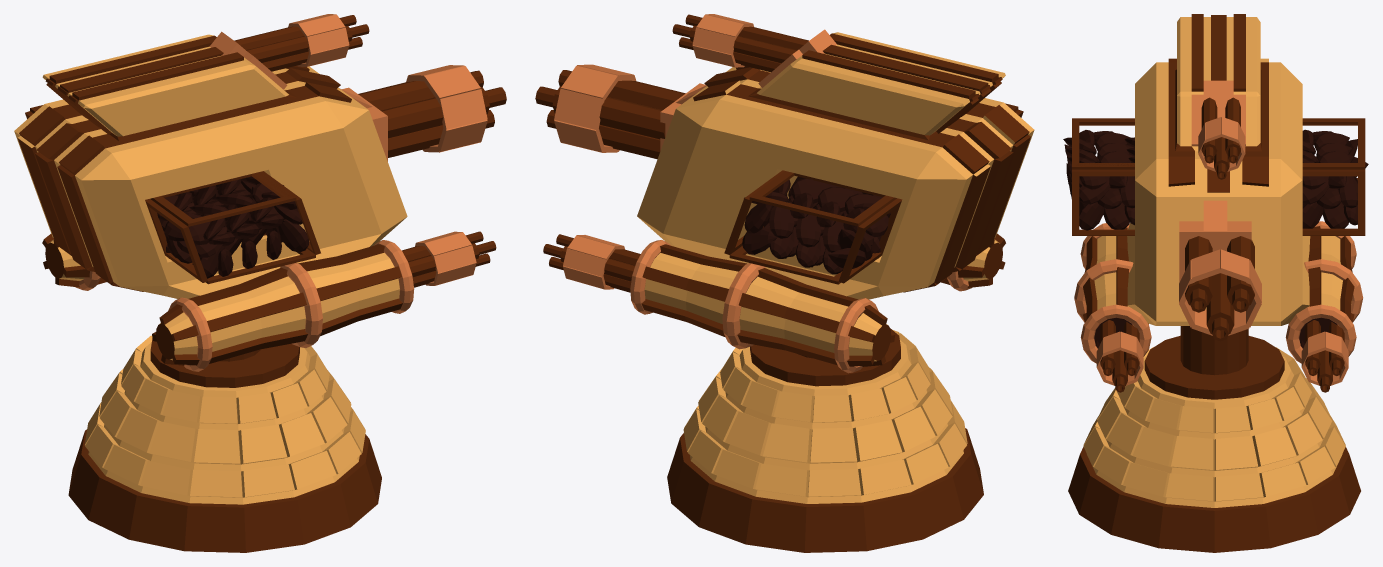
Rendered from cekirdekatarlevel14.fbx.
The picture shows the model from 3 angles, left to right: view 1: azimuth 30°, elevation 25°; view 2: azimuth 150°, elevation 25°; view 3: azimuth 270°, elevation 25°; orthographic projection. The views are drawn at different scales.
Parts seen in each view (by area): view 1: cekırdekatar_ust.007, parentli kurdanatar.026, cekrdekatar_on.009, cekrdekatar_on.010, cekırdekatar_ust.010; view 2: cekırdekatar_ust.007, parentli kurdanatar.026, cekrdekatar_on.009, cekrdekatar_on.010, cekırdekatar_ust.011; view 3: cekırdekatar_ust.007, parentli kurdanatar.026, cekrdekatar_on.009, cekrdekatar_on.010, cekırdekatar_ust.010, cekırdekatar_ust.011.
Boxes of the visible parts, bbox=[...] form: cekırdekatar_ust.007: bbox=[14, 31, 414, 371]; parentli kurdanatar.026: bbox=[68, 335, 381, 552]; cekrdekatar_on.009: bbox=[358, 65, 506, 157]; cekrdekatar_on.010: bbox=[234, 14, 369, 71]; cekırdekatar_ust.010: bbox=[402, 231, 496, 287]; cekırdekatar_ust.007: bbox=[630, 29, 1034, 373]; parentli kurdanatar.026: bbox=[667, 328, 983, 552]; cekrdekatar_on.009: bbox=[535, 64, 685, 159]; cekrdekatar_on.010: bbox=[672, 14, 808, 72]; cekırdekatar_ust.011: bbox=[543, 234, 640, 292]; cekırdekatar_ust.007: bbox=[1063, 14, 1368, 363]; parentli kurdanatar.026: bbox=[1068, 326, 1360, 552]; cekrdekatar_on.009: bbox=[1179, 236, 1261, 341]; cekrdekatar_on.010: bbox=[1198, 97, 1245, 179]; cekırdekatar_ust.010: bbox=[1096, 320, 1143, 392]; cekırdekatar_ust.011: bbox=[1301, 320, 1348, 392].
Bounding box in the file's own units: 329 × 311 × 209.
4 materials, 4 textured.
